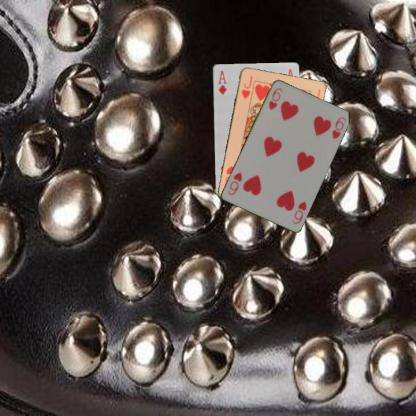6h: (289, 198, 308, 226), (266, 85, 284, 111)
Ad: (215, 68, 228, 96)
Jh: (239, 74, 254, 100)
